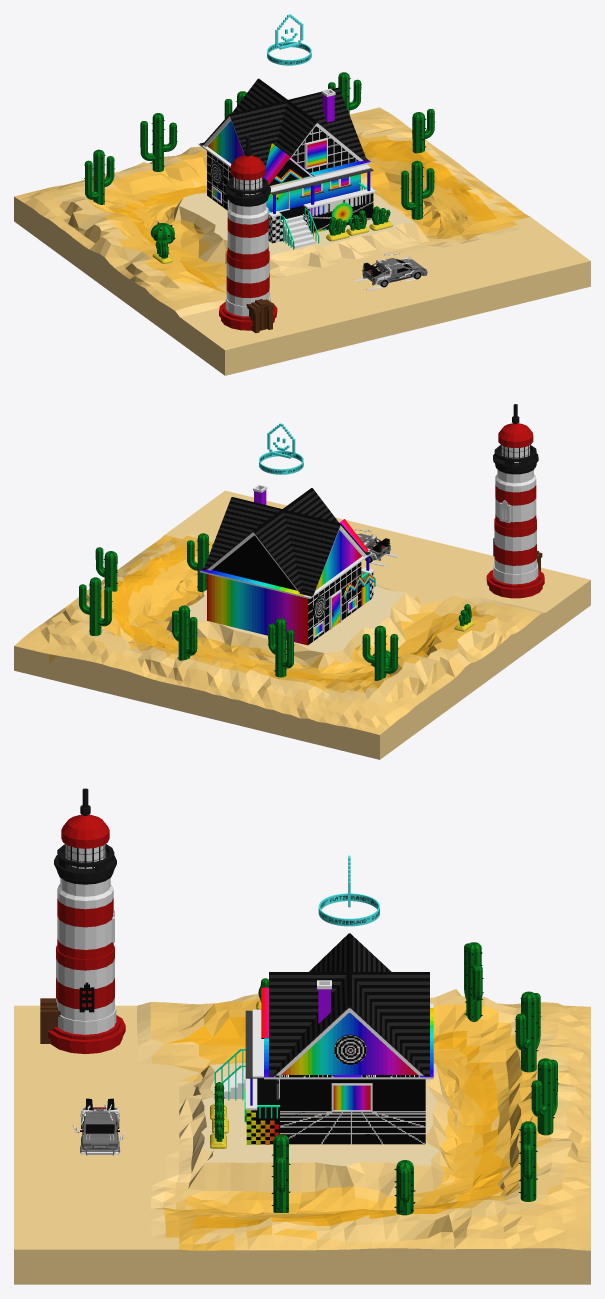
3 views of the same model, one above another, from view 1: azimuth 30°, elevation 25°; view 2: azimuth 150°, elevation 25°; view 3: azimuth 270°, elevation 25° (orthographic). The views are drawn at different scales.
Parts seen in each view (by area): view 1: Cube.001, Cube.1320, OBJRANDOM_LIGHTHOUSE, VEHICLES_DELOREAN, Cylinder.044, Cylinder.037, Cylinder.045, TYPE_PREMIUM, Cylinder.038, Cylinder.042; view 2: Cube.001, Cube.1320, OBJRANDOM_LIGHTHOUSE, Cylinder.042, Cylinder.045, Cylinder.044, Cylinder.043, TYPE_PREMIUM, Cylinder.037, Cylinder.038, VEHICLES_DELOREAN; view 3: Cube.001, Cube.1320, OBJRANDOM_LIGHTHOUSE, VEHICLES_DELOREAN, Cylinder.043, Cylinder.044, Cylinder.045, Cylinder.042, Cylinder.037, TYPE_PREMIUM, Cylinder.038.
Boxes of the visible parts, box(x1,y1,x2,y2) form: Cube.001: box(14, 107, 590, 375); Cube.1320: box(198, 78, 375, 249); OBJRANDOM_LIGHTHOUSE: box(219, 136, 277, 333); VEHICLES_DELOREAN: box(350, 253, 427, 290); Cylinder.044: box(140, 113, 177, 171); Cylinder.037: box(400, 160, 434, 219); Cylinder.045: box(84, 149, 114, 204); TYPE_PREMIUM: box(267, 14, 311, 65); Cylinder.038: box(412, 109, 434, 153); Cylinder.042: box(328, 72, 361, 114); Cube.001: box(14, 490, 590, 759); Cube.1320: box(199, 484, 375, 645); OBJRANDOM_LIGHTHOUSE: box(486, 404, 544, 598); Cylinder.042: box(79, 577, 112, 635); Cylinder.045: box(362, 625, 398, 680); Cylinder.044: box(268, 618, 294, 677); Cylinder.043: box(171, 605, 197, 660); TYPE_PREMIUM: box(259, 423, 303, 474); Cylinder.037: box(187, 533, 213, 592); Cylinder.038: box(95, 547, 117, 591); VEHICLES_DELOREAN: box(354, 529, 402, 566); Cube.001: box(14, 989, 590, 1284); Cube.1320: box(214, 933, 433, 1144); OBJRANDOM_LIGHTHOUSE: box(40, 788, 125, 1053); VEHICLES_DELOREAN: box(72, 1098, 124, 1155); Cylinder.043: box(530, 1058, 558, 1135); Cylinder.044: box(515, 991, 541, 1072); Cylinder.045: box(464, 942, 483, 1021); Cylinder.042: box(518, 1121, 537, 1201); Cylinder.037: box(271, 1134, 290, 1212); TYPE_PREMIUM: box(318, 855, 379, 926); Cylinder.038: box(394, 1160, 415, 1215).
Bounding box in the file's own units: 4002 × 2437 × 4001.
Materials: 33 (5 with a texture image).
